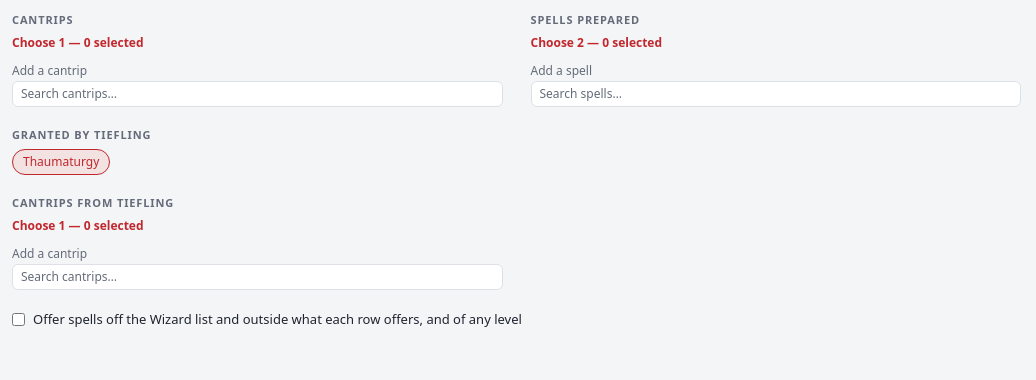
Test: SpellsStep › holds a race's picks apart from the class's counts and list
Expected: the element "Cantrips from Tiefling" is shown, [12,195,502,290]
Focus the dropdown labelled "Add a cantrip" below "Cantrips from Tiefling": (257, 276) [12,264,502,290]
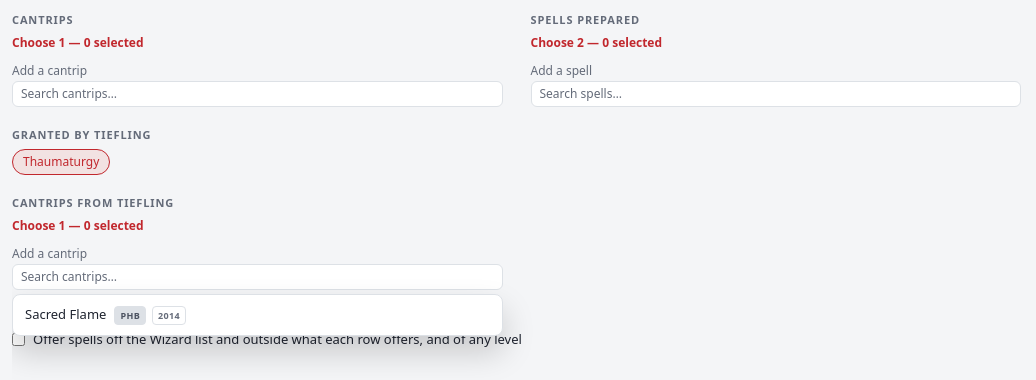
Click the option "Sacred Flame PHB 2014": click(106, 315) [25,304,186,325]
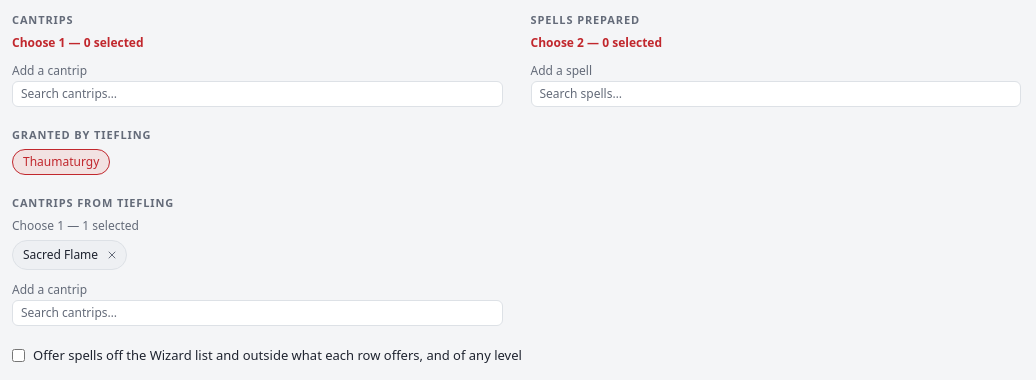
Expected: the element "Cantrips" shows "Choose 1 — 0 selected", [12,12,502,106]
Now the element "Cantrips from Tiefling" shows "Choose 1 — 1 selected", box [12,195,502,326]
